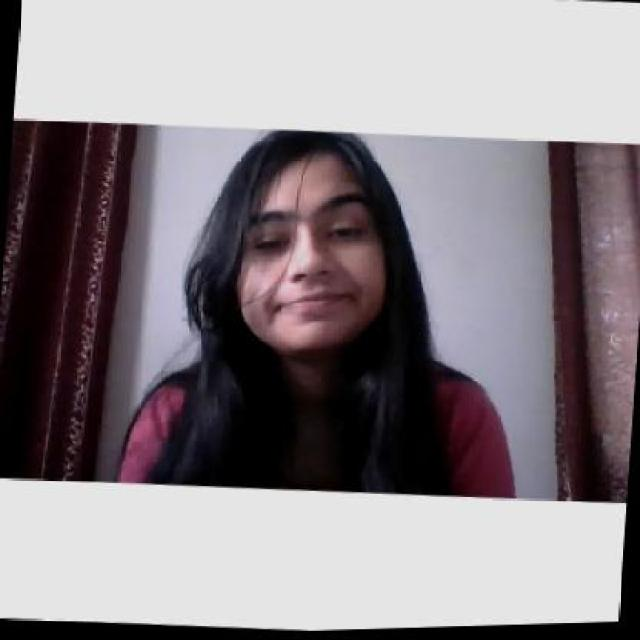attentif: (235, 126, 393, 357)
